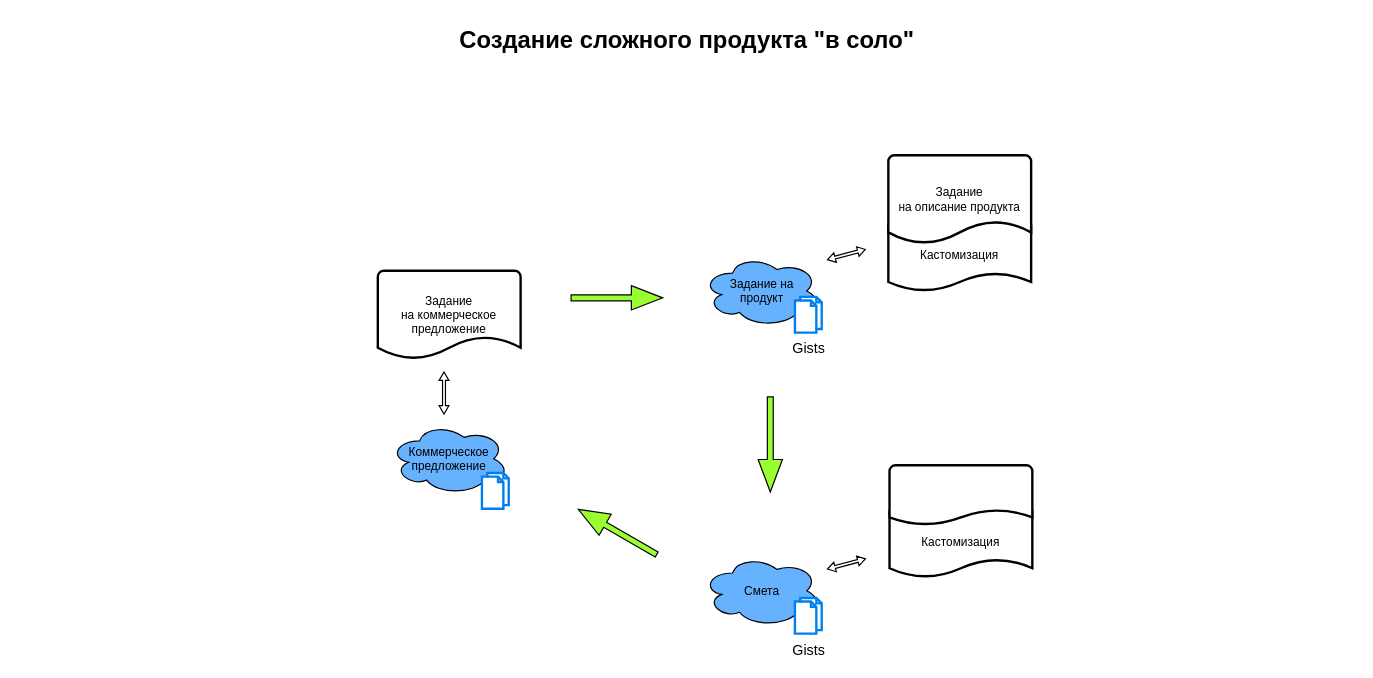
The diagram is 1373 pixels wide and 678 high, and some of its shapes have lost their labels. Each missing label, with the centre of its shape:
"Email / PDF" belongs at point 494,490.
"Задание на смету" belongs at point 960,494.
